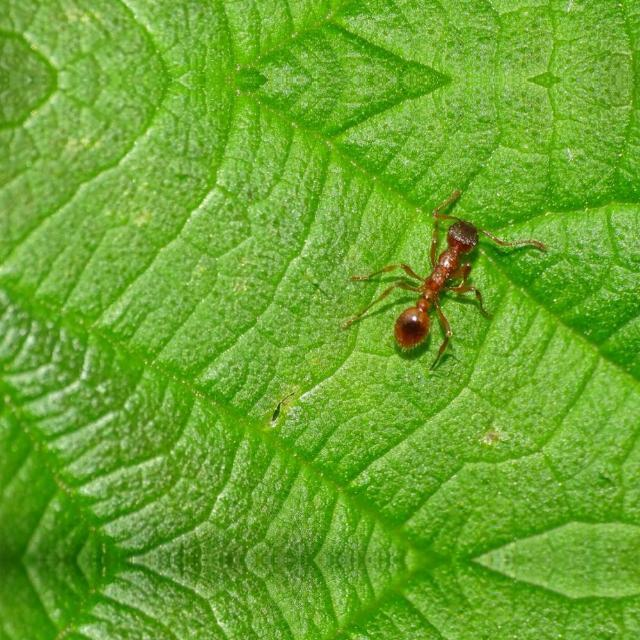Myrmica: (376, 189, 508, 359)
